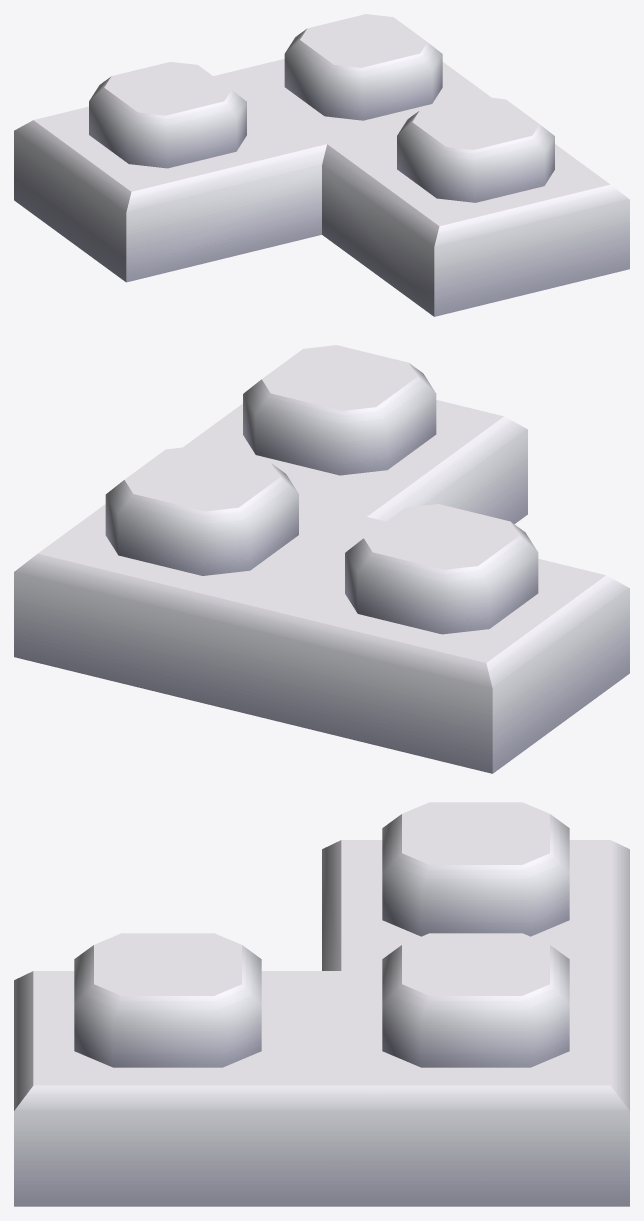
The model's file is bevel-hq-plate-corner.glb.
3 views of the same model, one above another, from view 1: azimuth 30°, elevation 25°; view 2: azimuth 150°, elevation 25°; view 3: azimuth 270°, elevation 25° (orthographic). The views are drawn at different scales.
Parts seen in each view (by area): view 1: bevel-hq-plate-corner; view 2: bevel-hq-plate-corner; view 3: bevel-hq-plate-corner.
Boxes of the visible parts, <box> form: bevel-hq-plate-corner: <box>14,14,629,316</box>; bevel-hq-plate-corner: <box>14,345,629,773</box>; bevel-hq-plate-corner: <box>14,802,629,1206</box>.
Size of the model in its own units: 0.159 by 0.05 by 0.158.
Materials: 1 (1 with a texture image).
